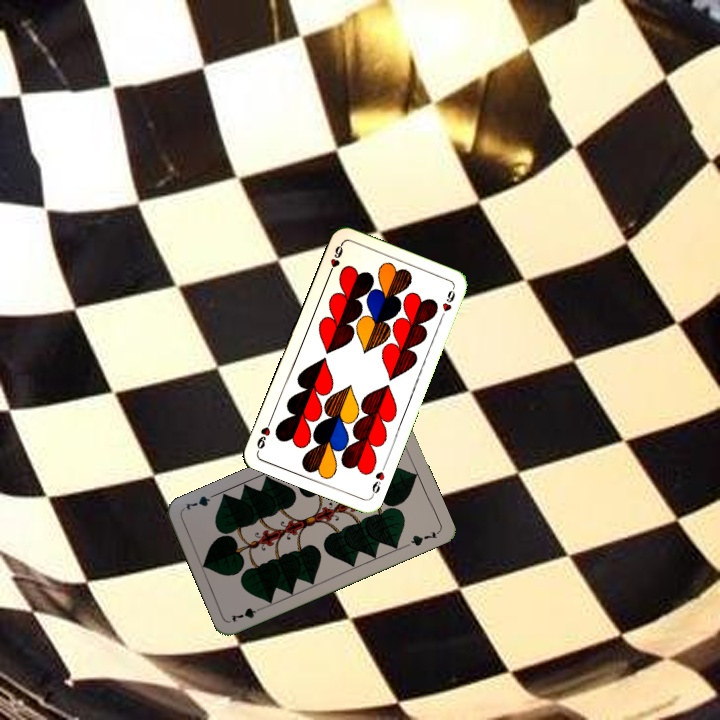G7: (227, 602, 267, 625)
H9: (324, 240, 345, 279), (367, 460, 388, 499)
